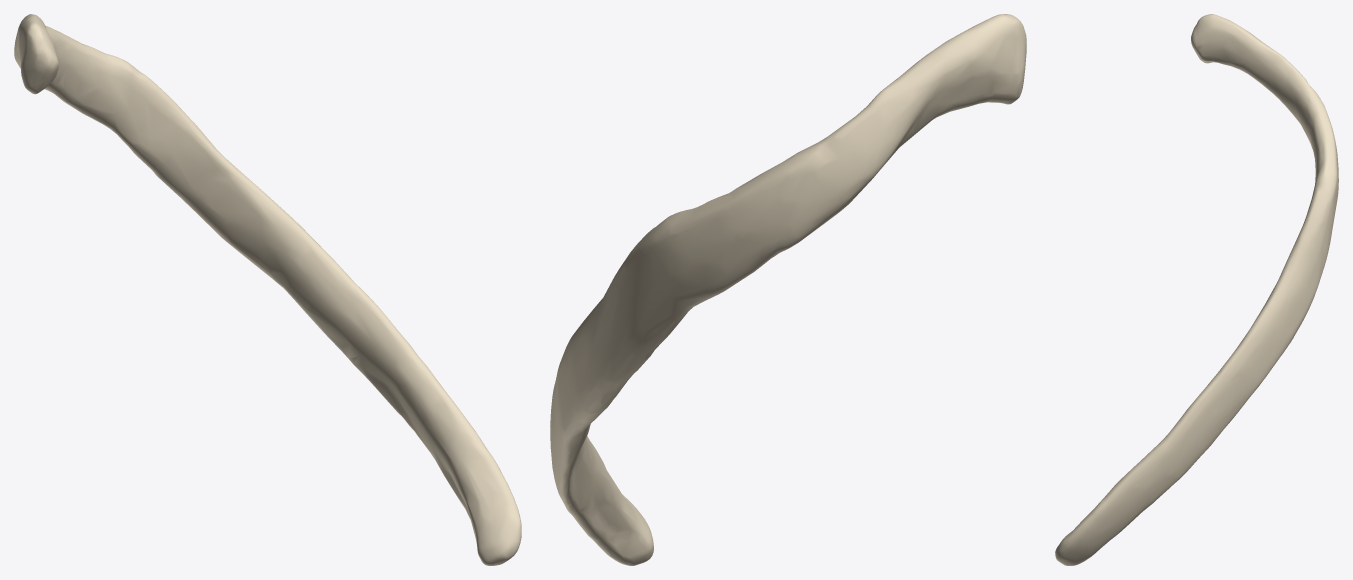
The model's file is eleventh-rib-l.glb.
3 renders of one model, left to right at view 1: azimuth 30°, elevation 25°; view 2: azimuth 150°, elevation 25°; view 3: azimuth 270°, elevation 25°, orthographic. The views are drawn at different scales.
Parts seen in each view (by area): view 1: Eleventh rib.l; view 2: Eleventh rib.l; view 3: Eleventh rib.l.
Part boxes in pixels (<box>): Eleventh rib.l: <box>14,14,521,565</box>; Eleventh rib.l: <box>550,14,1026,565</box>; Eleventh rib.l: <box>1055,14,1338,565</box>.
Bounding box in the file's own units: 0.0998 × 0.132 × 0.0812.
